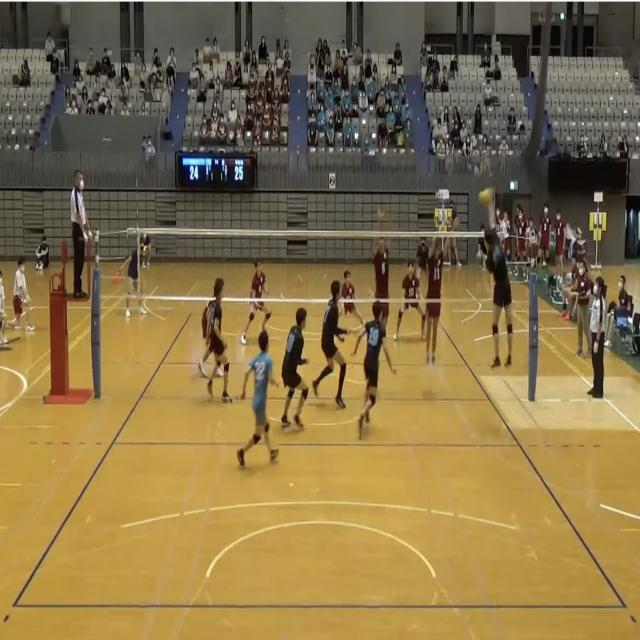spike: (468, 182, 518, 376)
